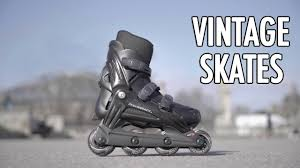roller_blate: (89, 38, 196, 153)
